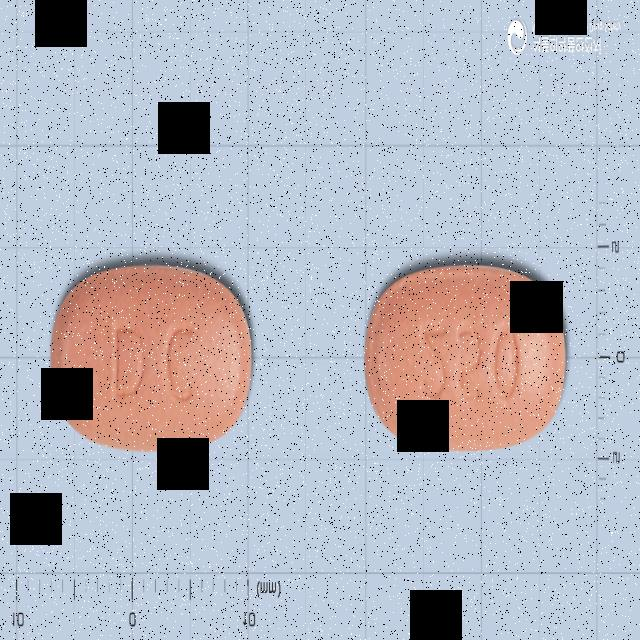Dongkoo Levofloxacin Hydrate Tab-250mg: (49, 262, 254, 453), (364, 263, 567, 454)
